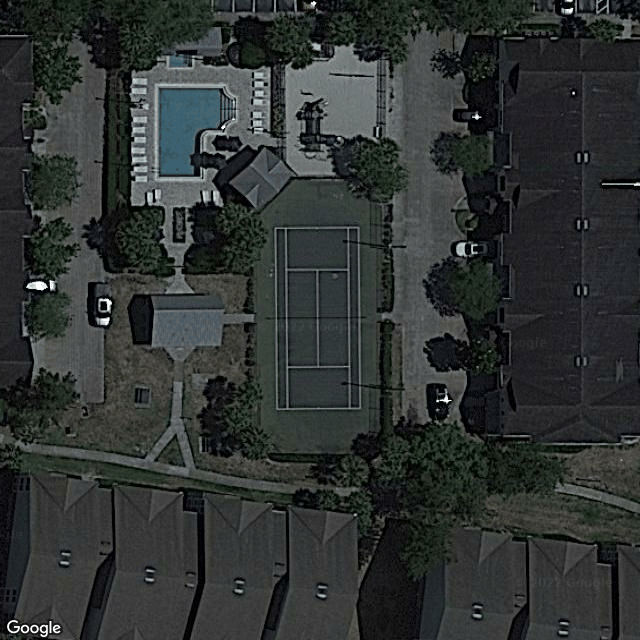Court: (271, 225, 363, 411)
